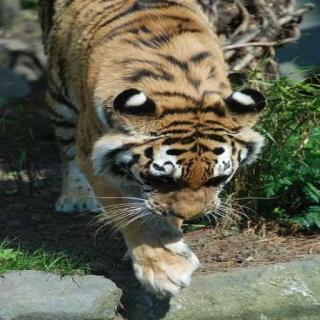Tiger: (25, 0, 272, 304)
